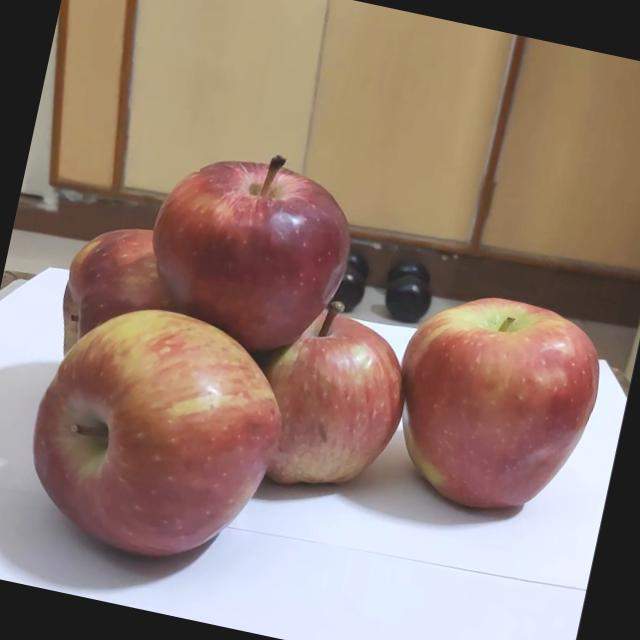apple: (32, 307, 348, 625), (352, 274, 620, 550), (143, 146, 386, 402), (12, 219, 260, 469), (224, 294, 434, 538)
